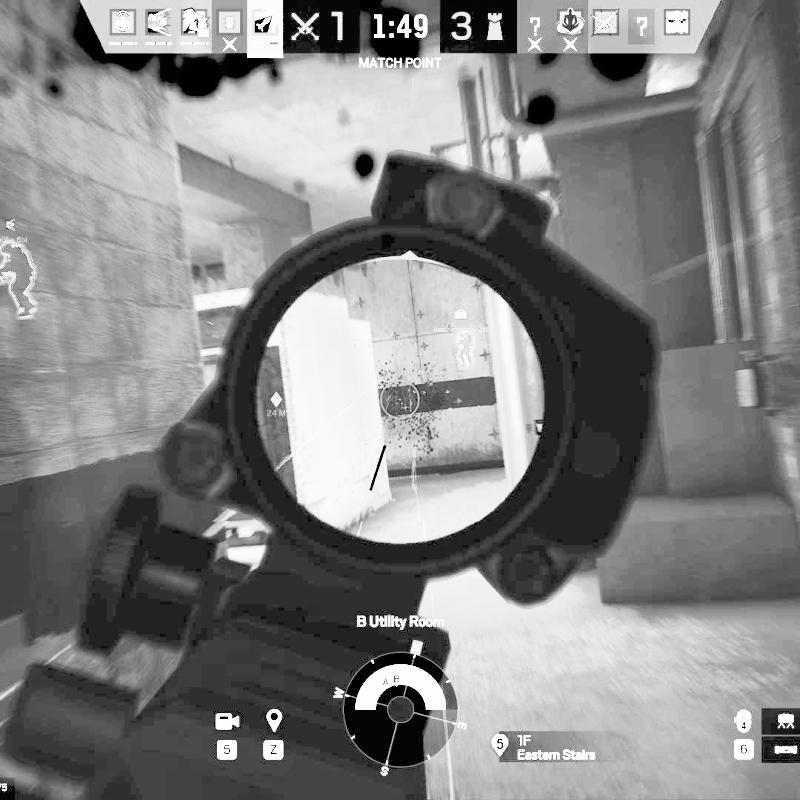Friend_label: (433, 308, 490, 334), (0, 218, 28, 243)
